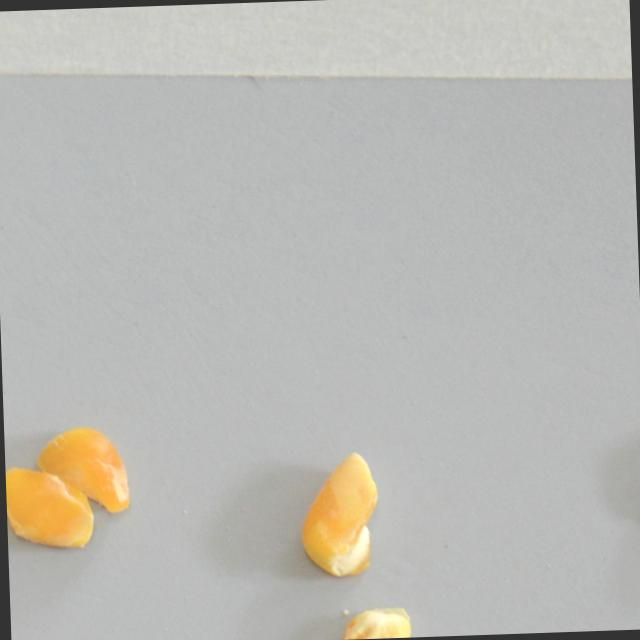pelicula: (297, 449, 381, 580), (31, 420, 136, 518), (5, 460, 95, 553), (336, 604, 411, 640)
